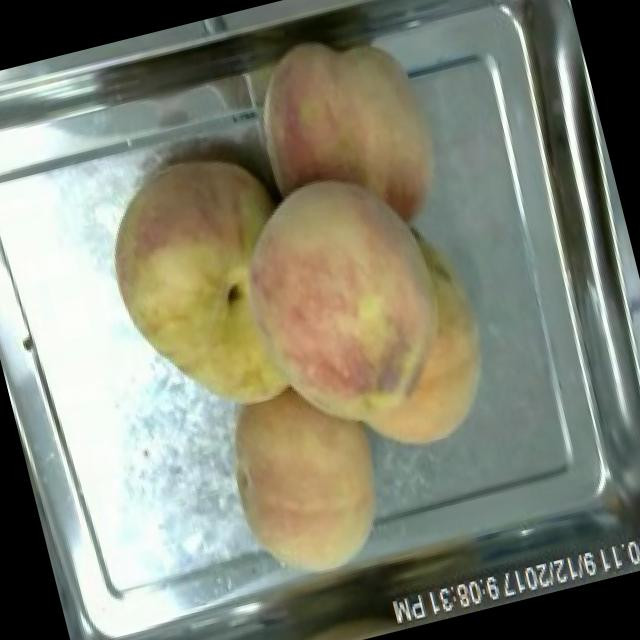Fruit: (216, 140, 518, 487), (80, 132, 332, 440), (222, 7, 460, 260), (204, 364, 404, 598)
